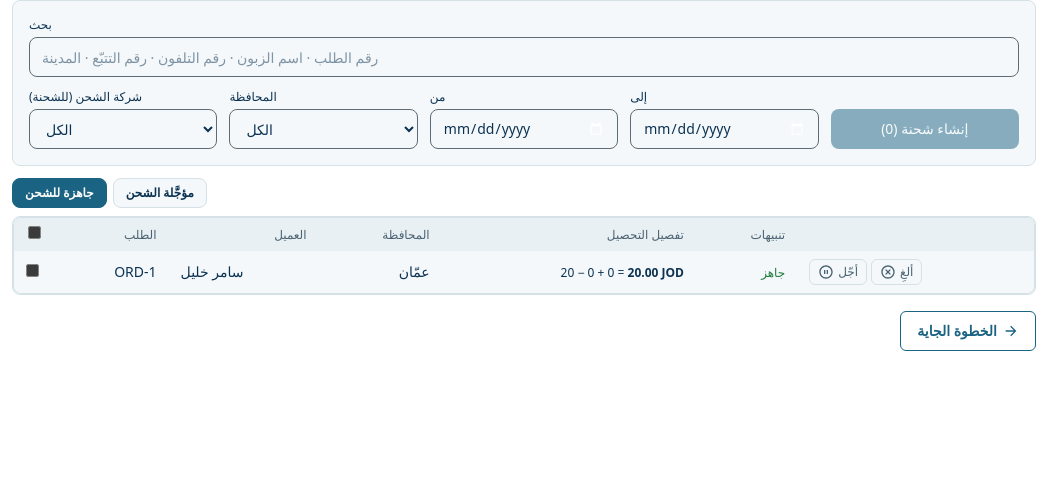
a courier sent to by API › when every order went, «رحّل» is gone
The width and height of the screenshot is (1053, 496).
expect the text "سامر خليل" is shown: met, box x1=180 y1=262 x2=244 y2=281
Select "الباشا" in the dropdown labelled "شركة الشحن (للشحنة)": {"x": 123, "y": 129} x1=29 y1=109 x2=217 y2=149
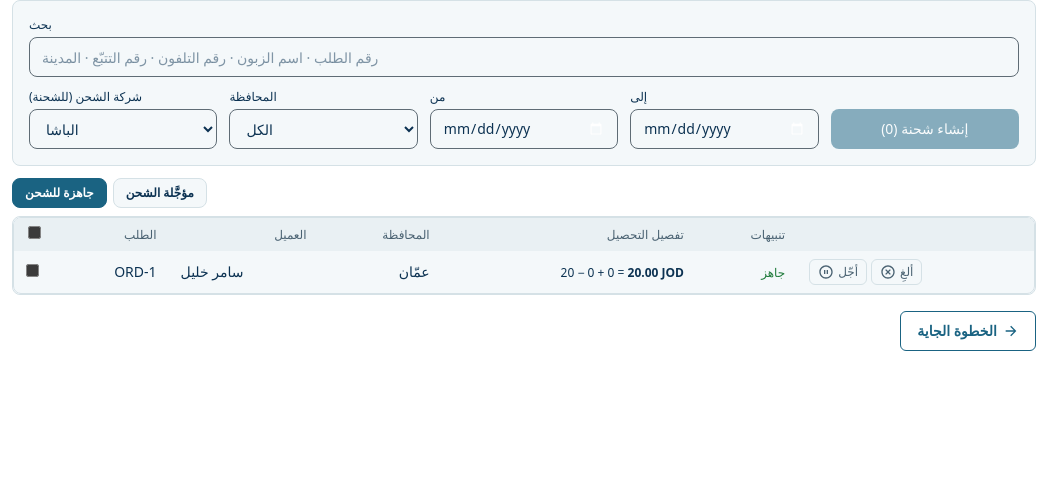
Click the checkbox named "اختر الكل": {"x": 34, "y": 232} x1=28 y1=226 x2=40 y2=239
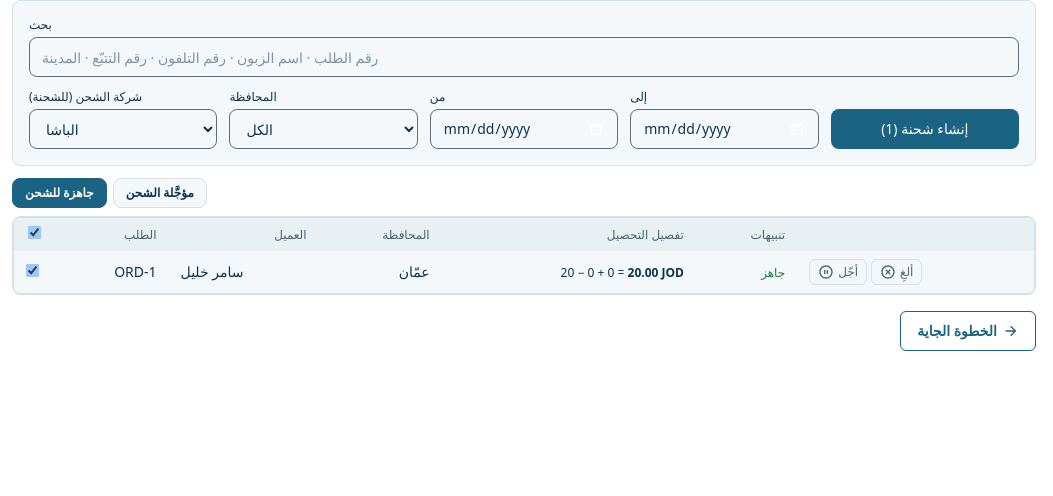
Click the button "إنشاء شحنة (1)": {"x": 925, "y": 129} x1=831 y1=109 x2=1019 y2=149
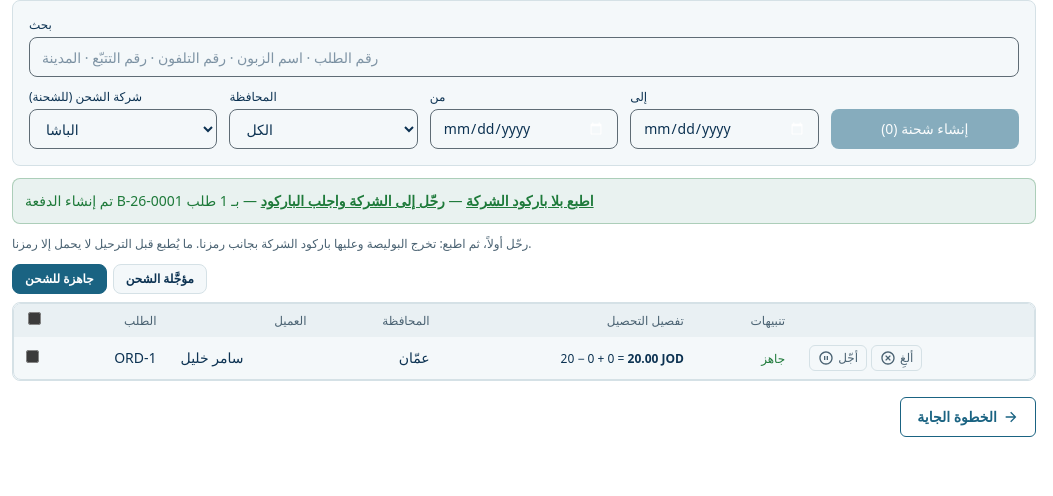
expect the text "تم إنشاء الدفعة B-26-0001" is shown: met, box x1=25 y1=191 x2=239 y2=210
Click the button "رحّل إلى الشركة واجلب الباركود": {"x": 353, "y": 201} x1=261 y1=191 x2=445 y2=211
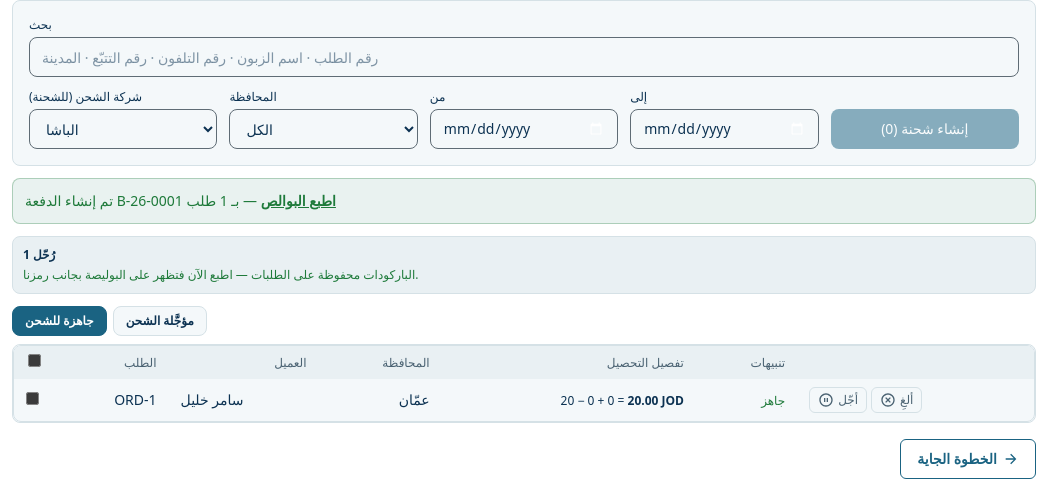
expect the text "رُحّل 1" is shown: met, box x1=23 y1=246 x2=55 y2=263
expect the button "رحّل" is gone: met
expect the button "اطبع البوالص" is shown: met, box x1=261 y1=191 x2=336 y2=211
